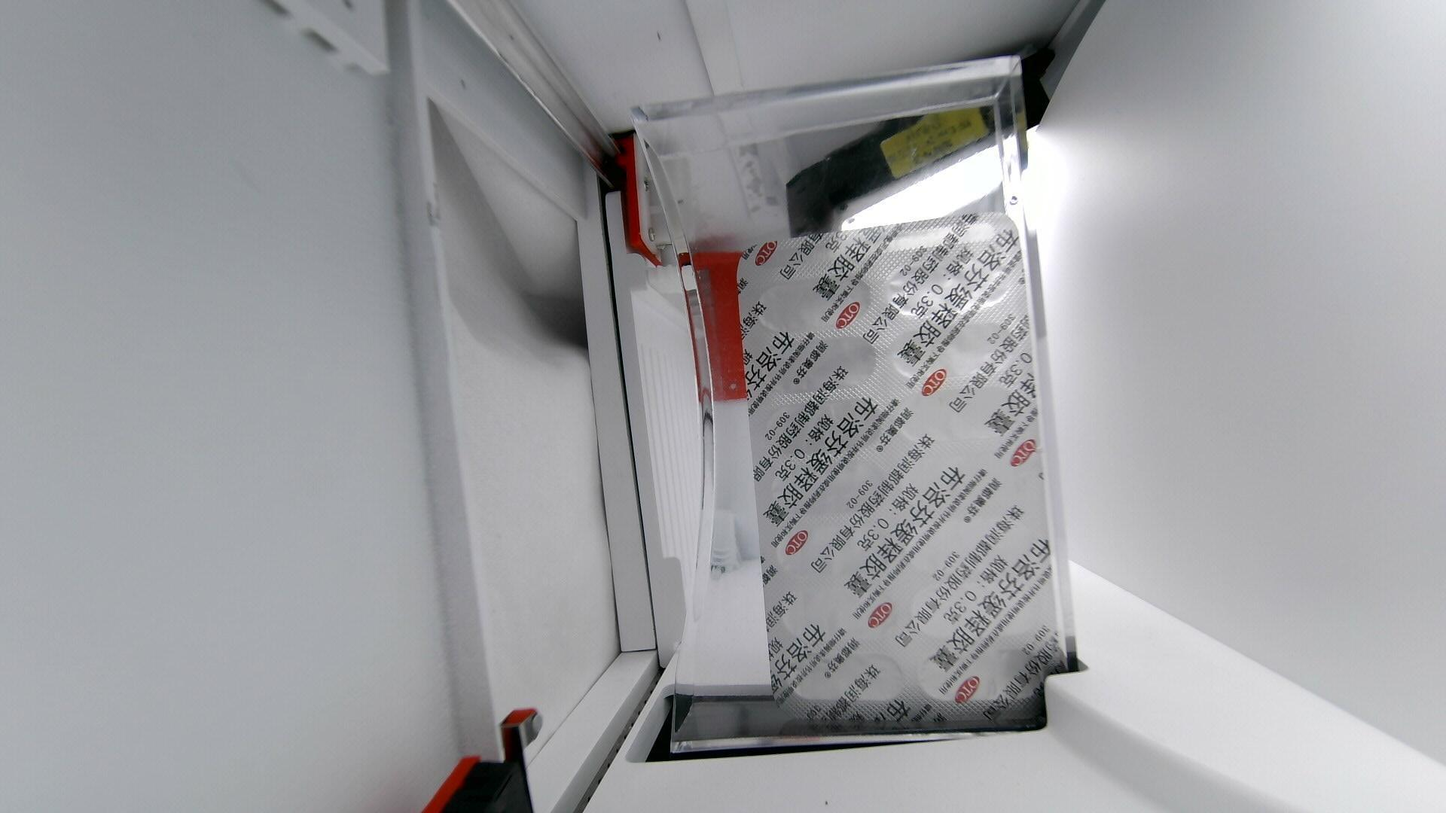Pill Back: (906, 577, 1042, 632), (893, 324, 1023, 381), (769, 520, 898, 577), (899, 392, 1031, 447), (906, 459, 1027, 515), (756, 336, 877, 390), (920, 647, 1043, 700), (789, 646, 905, 702), (886, 264, 1013, 315), (914, 522, 1028, 574), (774, 457, 889, 508), (779, 585, 893, 629), (755, 279, 868, 323), (764, 403, 885, 444)
